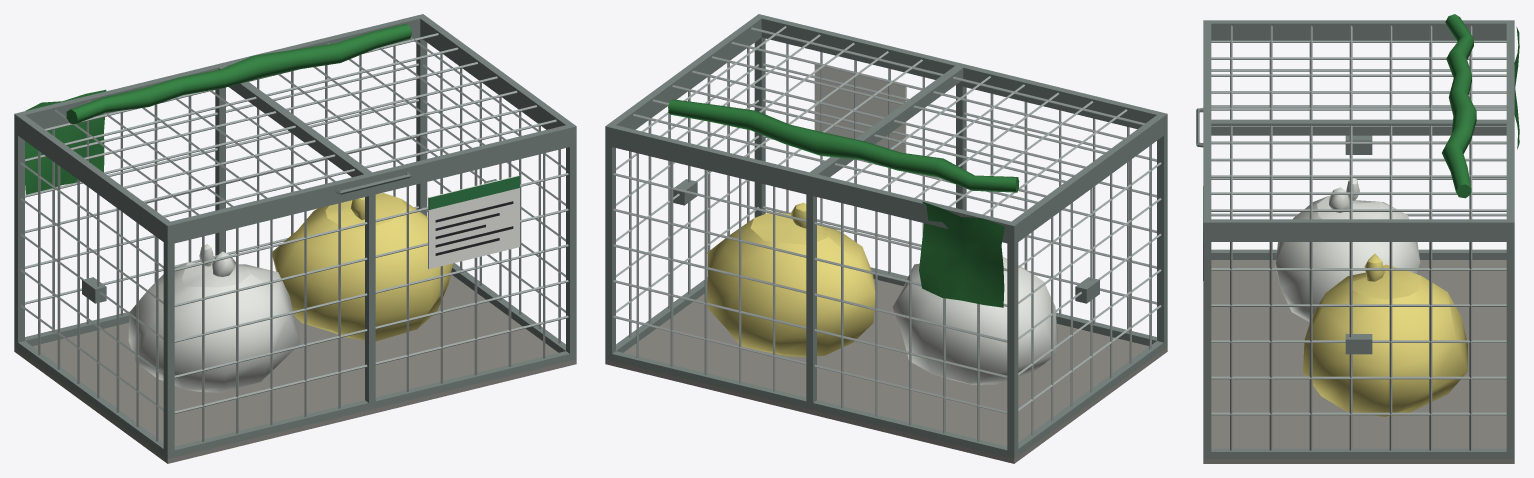
Rendered from garbage_station.glb.
3 views of the same model, side by side, from view 1: azimuth 30°, elevation 25°; view 2: azimuth 150°, elevation 25°; view 3: azimuth 270°, elevation 25° (orthographic).
Parts seen in each view (by area): view 1: garbage_station; view 2: garbage_station; view 3: garbage_station.
Part boxes in pixels (x1=…): garbage_station: x1=14, y1=14, x2=576, y2=463; garbage_station: x1=605, y1=14, x2=1167, y2=463; garbage_station: x1=1196, y1=14, x2=1519, y2=463.
Bounding box in the file's own units: 1.82 × 1.09 × 1.22.
